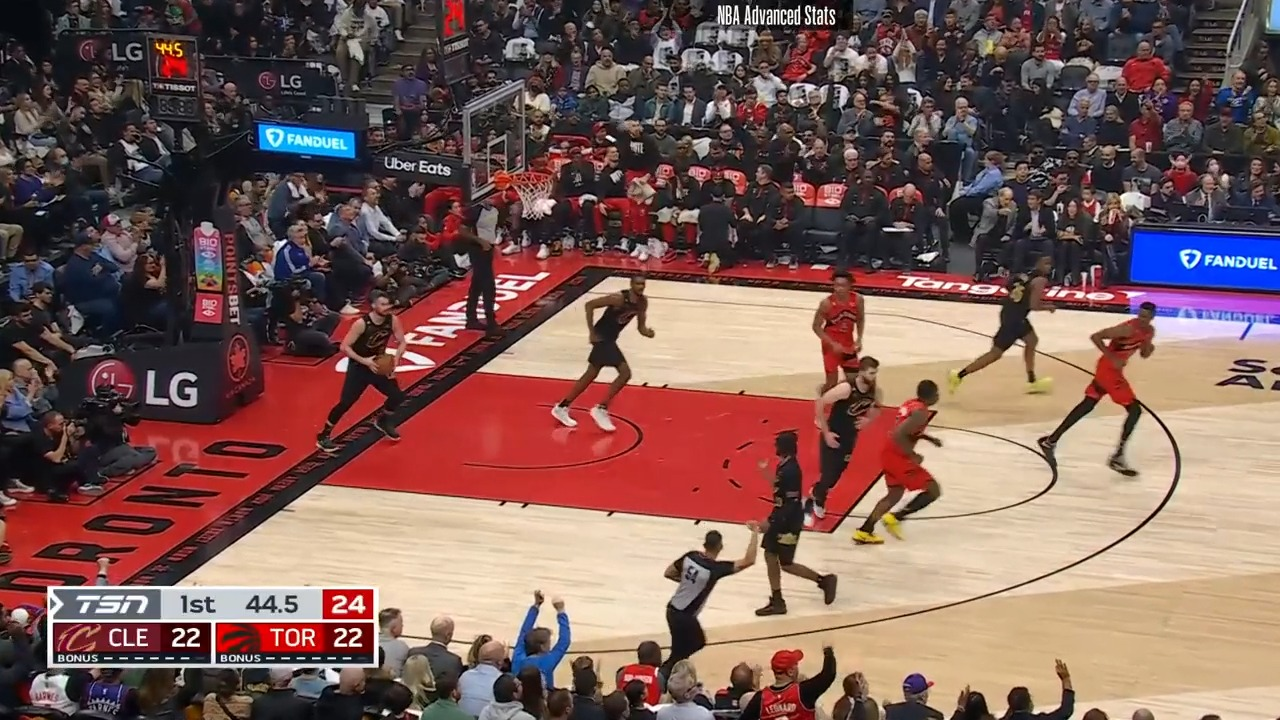net: (493, 166, 557, 221)
player: (1045, 301, 1173, 481), (740, 429, 835, 621), (547, 275, 655, 439), (847, 378, 951, 548), (310, 284, 405, 456), (948, 253, 1060, 398), (809, 357, 888, 530), (813, 269, 872, 407)
referee: (657, 532, 746, 676), (457, 192, 501, 338)
